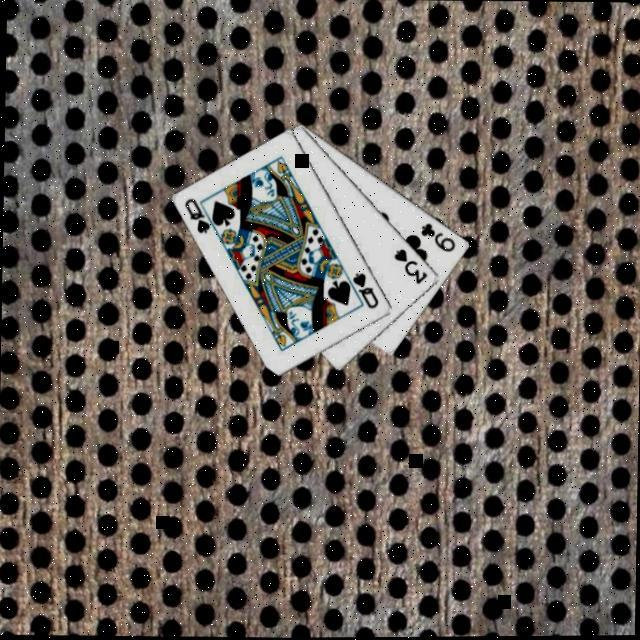3S: (392, 246, 432, 288)
9C: (418, 220, 460, 257)
QS: (350, 271, 383, 313), (182, 196, 215, 237)
